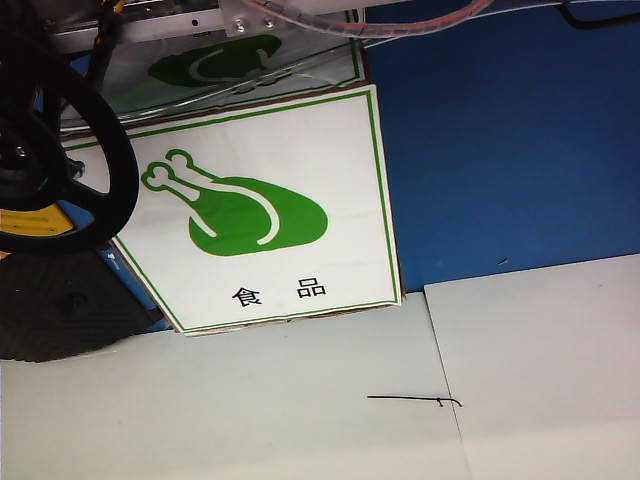Cube_food: (140, 144, 341, 313)
